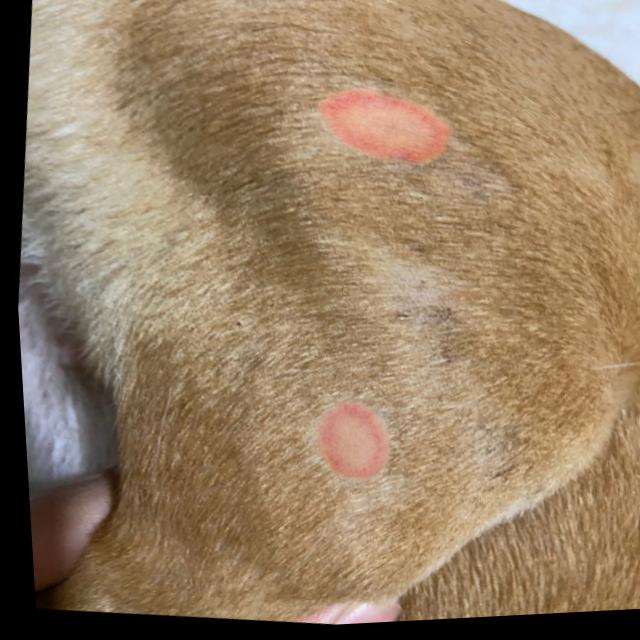ringworm: (276, 67, 499, 226)
